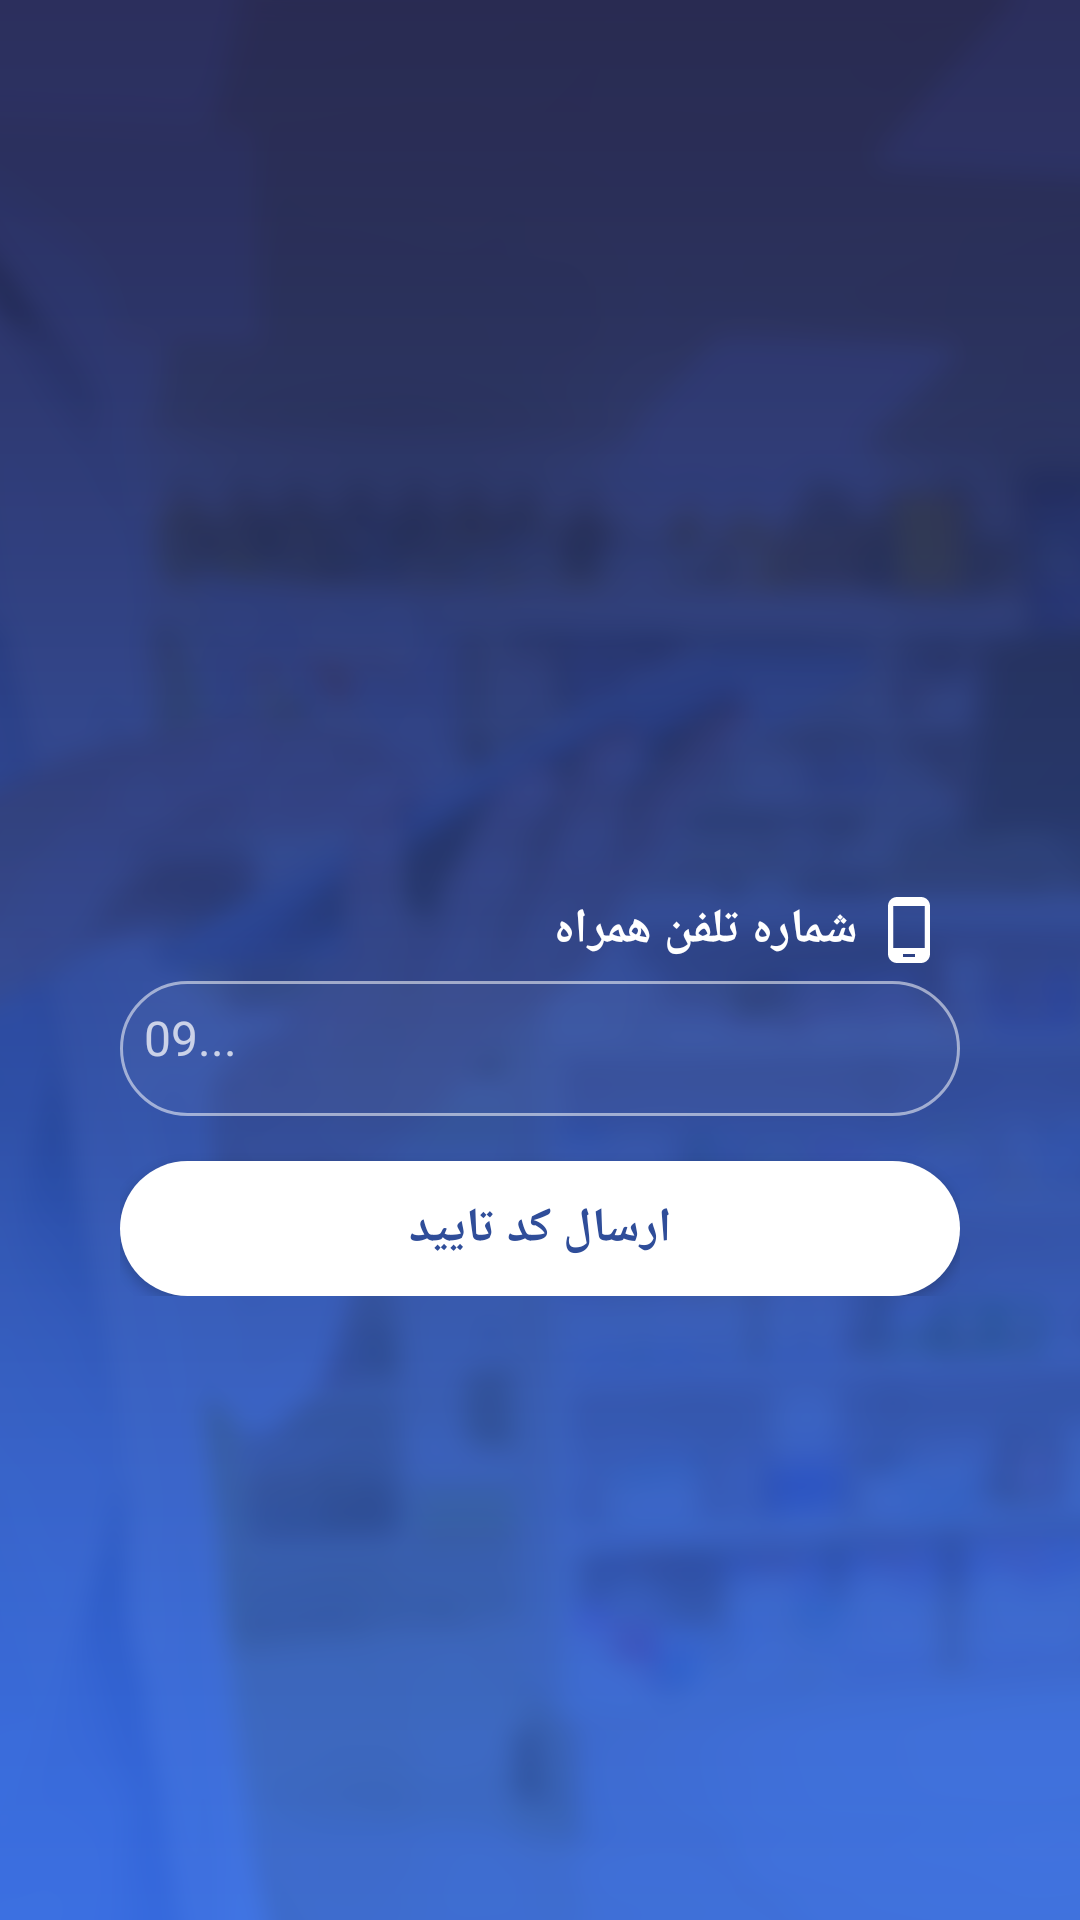

Named icons in this screenshot (1080 × 1920) and their centers, point (x, y):
mobile: point (909, 930)
